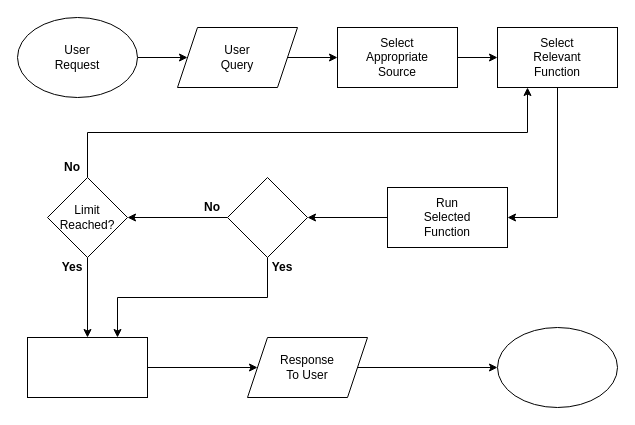
Some shapes in this 635 by 425 pixel diagram are drawn without their labels. Each missing label, with the centre of its shape:
End: (557,367)
Interpret Function Outputs: (87,367)
Is this Enough?: (267,217)
